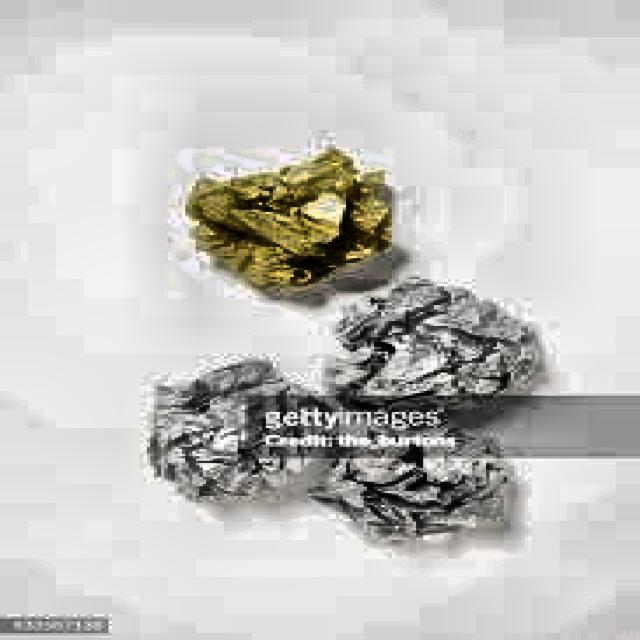Foil: (332, 283, 590, 438), (184, 142, 420, 311), (142, 362, 323, 506), (328, 416, 502, 564)
